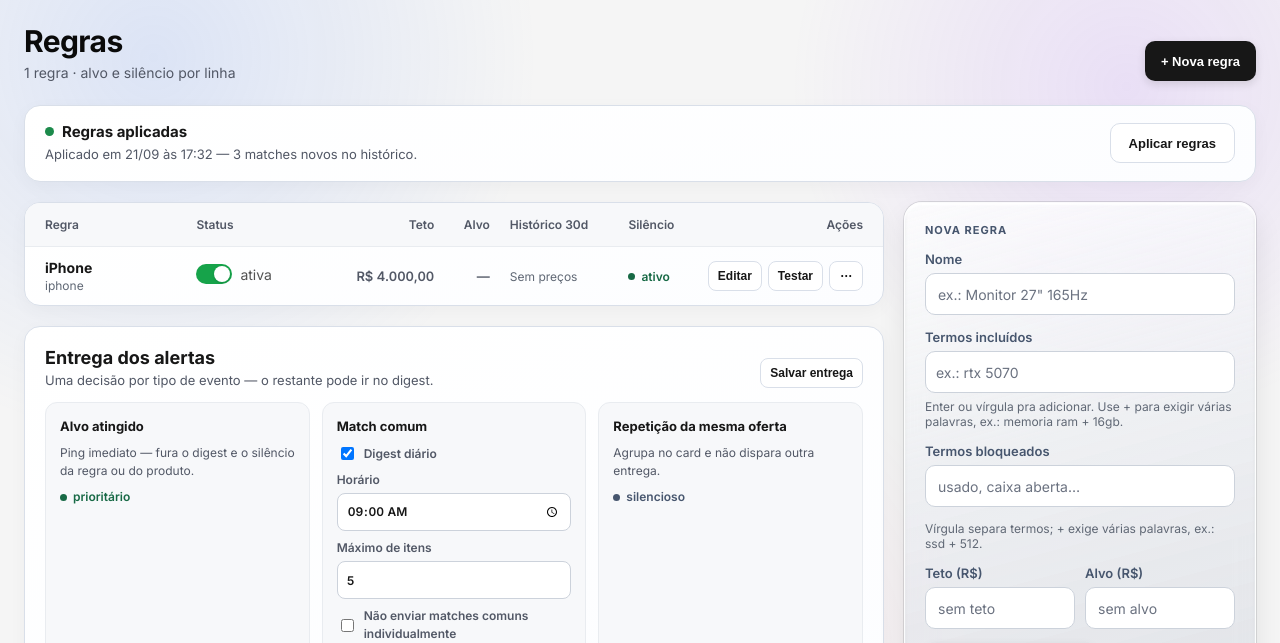
Test: RegrasPage › S13-07: a response arriving after the tester closes stays hidden
This screenshot has width=1280, height=643.
Click the button "Testar" in the row of "R$ 4.000,00": (795, 276) 768,261 -> 823,291
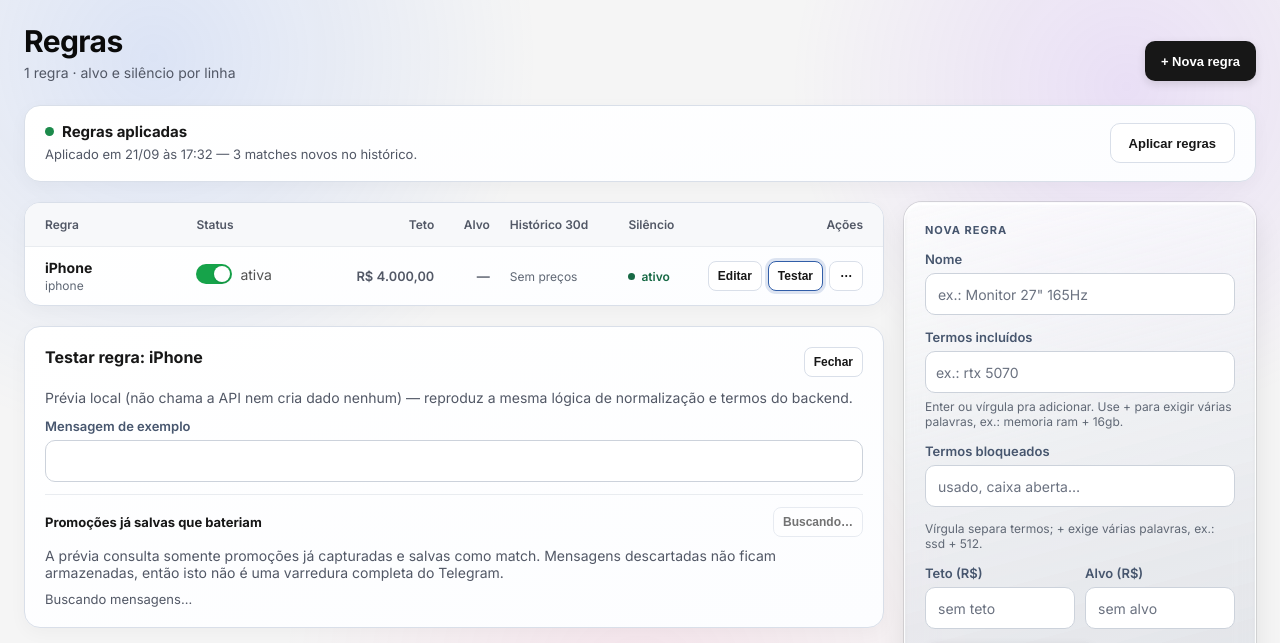
Expected: the heading "Testar regra: iPhone" is shown, 45,347 -> 203,367
Click the button "Fechar": (833, 362) 804,347 -> 863,377
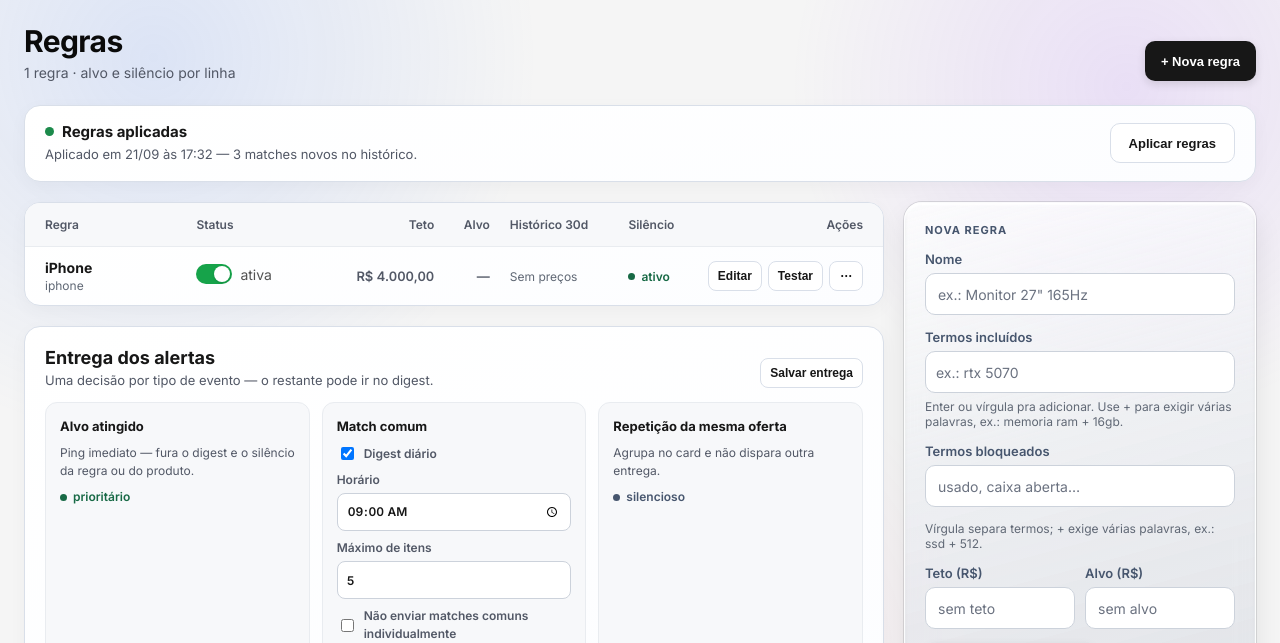
Expected: the heading "Testar regra: iPhone" is gone
